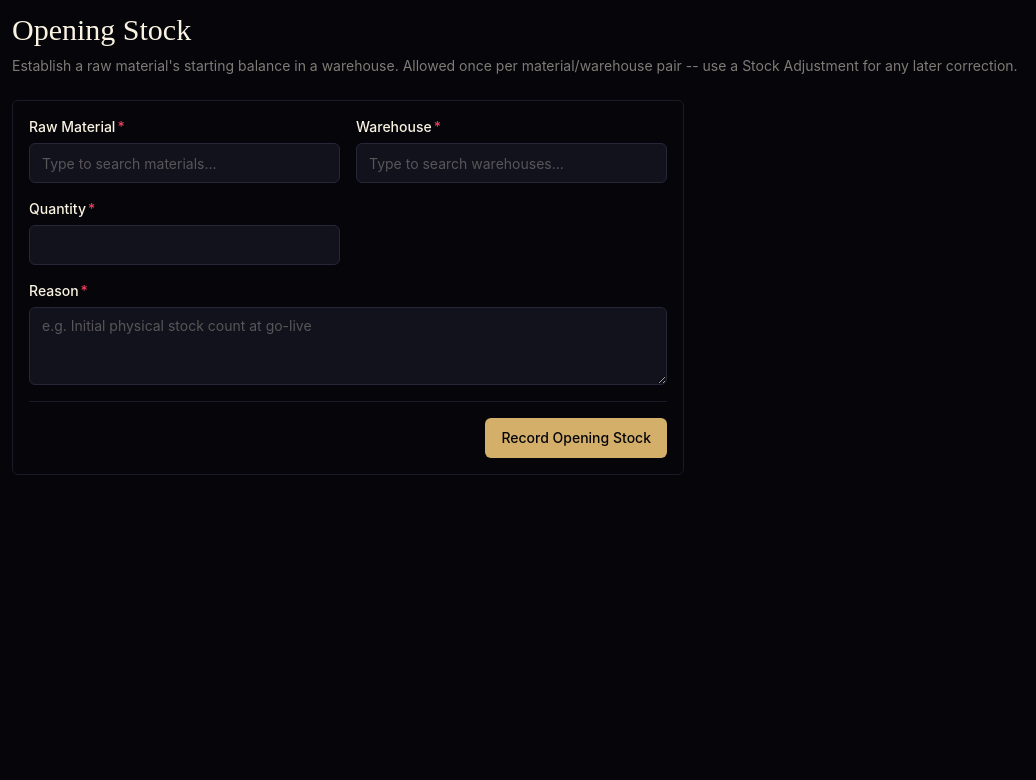
Test case: InventoryOpeningStockPage › rejects submission with no material, warehouse, quantity or reason
Check: the dropdown labelled "Raw Material" is shown, box x1=29 y1=143 x2=340 y2=183
Step 1. Click the button "Record Opening Stock" → [576, 438], box x1=485 y1=418 x2=667 y2=458
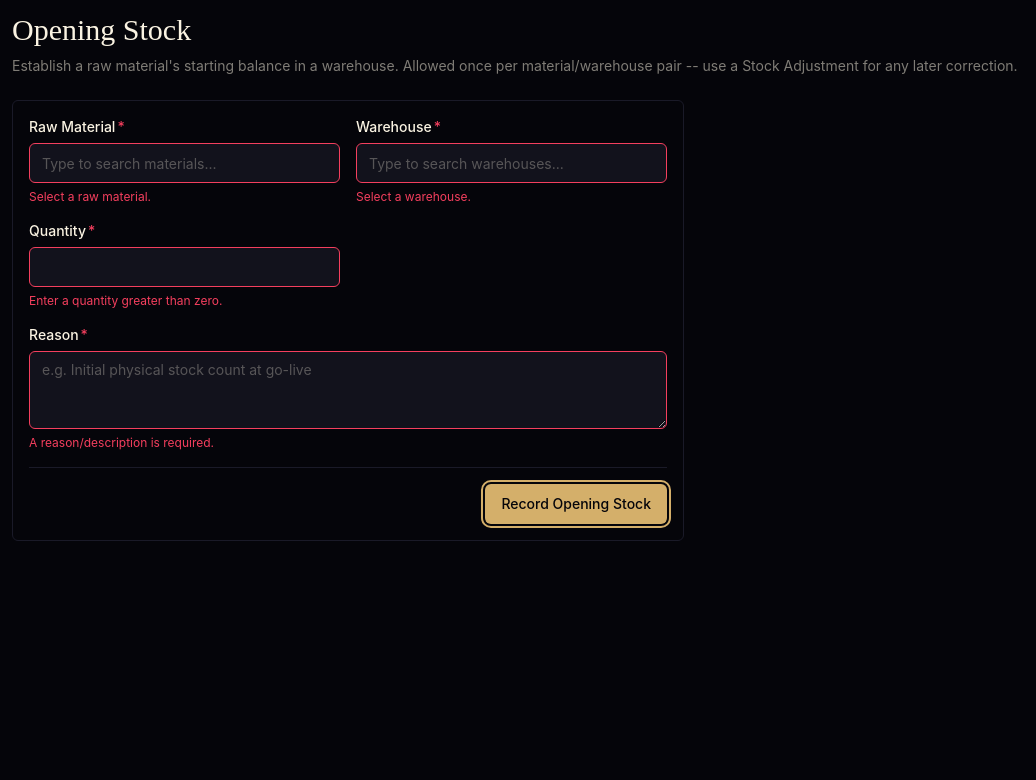
Check: the text "Select a raw material." is shown, box x1=29 y1=189 x2=151 y2=204
Check: the text "Select a warehouse." is shown, box x1=356 y1=189 x2=471 y2=204
Check: the text "Enter a quantity greater than zero." is shown, box x1=29 y1=293 x2=222 y2=308
